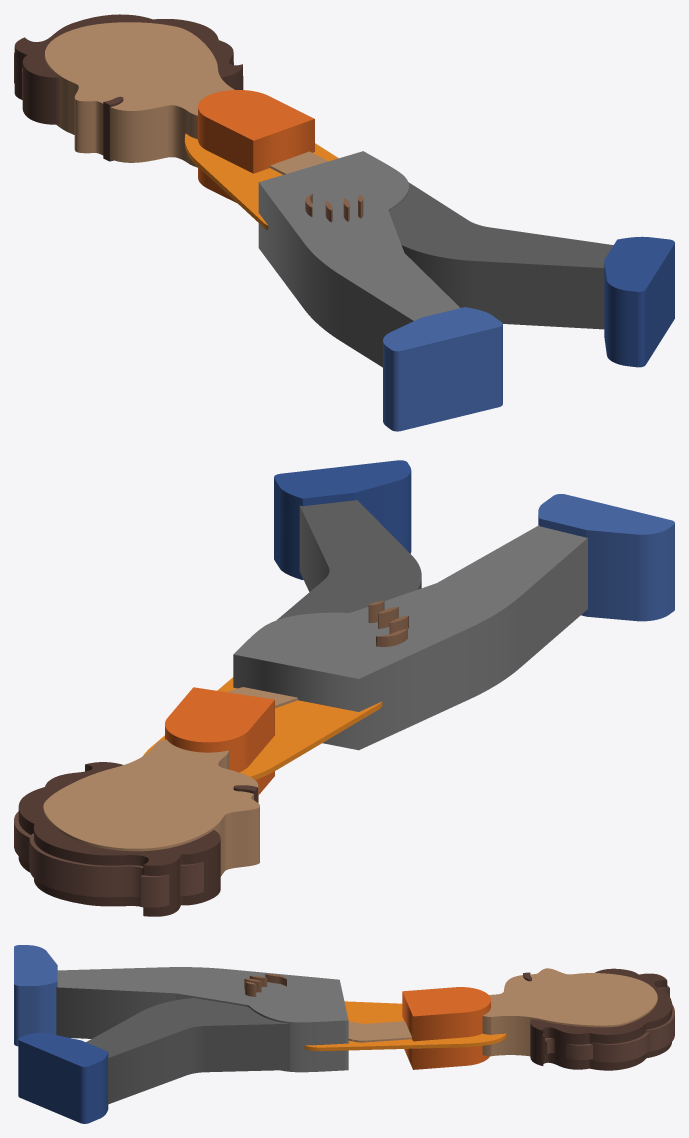
The model's file is emoji_u1f6b6_1f3fd.glb.
The picture shows the model from 3 angles, top to bottom: view 1: azimuth 30°, elevation 25°; view 2: azimuth 150°, elevation 25°; view 3: azimuth 270°, elevation 25°; orthographic projection. The views are drawn at different scales.
Visible parts, largest first — view 1: emoji_u1f6b6_1f3fd; view 2: emoji_u1f6b6_1f3fd; view 3: emoji_u1f6b6_1f3fd.
Boxes of the visible parts, x1,y1,x2,y2 form: emoji_u1f6b6_1f3fd: (14, 14, 674, 431); emoji_u1f6b6_1f3fd: (14, 460, 674, 916); emoji_u1f6b6_1f3fd: (14, 945, 674, 1123).
Bounding box in the file's own units: 0.0145 × 0.0042 × 0.0336.
